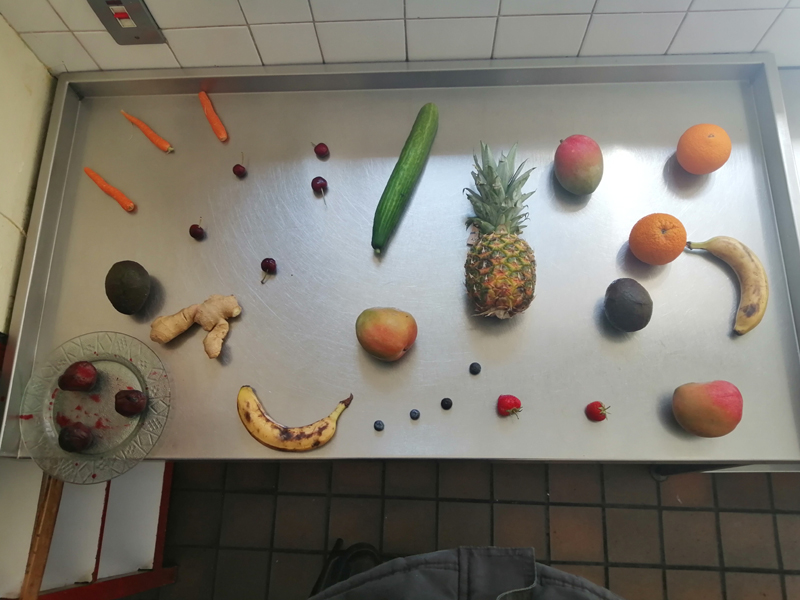avocado: (602, 274, 657, 337), (103, 254, 153, 317)
banana: (224, 378, 359, 458), (687, 222, 773, 340)
beet: (47, 359, 107, 394), (52, 420, 98, 456), (113, 383, 147, 422)
blueberry: (437, 394, 457, 423), (406, 405, 424, 432), (365, 415, 387, 434), (465, 359, 486, 377)
carrot: (106, 102, 177, 165), (81, 157, 139, 226), (189, 89, 238, 144)
cherry: (247, 250, 283, 292), (300, 132, 337, 162), (306, 172, 328, 207), (181, 222, 211, 242), (231, 160, 250, 184)
cucumber: (370, 93, 439, 273)
ginger: (147, 299, 271, 362)
mango: (345, 304, 424, 366), (671, 377, 745, 443), (549, 131, 607, 204)
orange: (672, 118, 737, 182), (623, 214, 687, 268)
pineapple: (453, 130, 546, 334)
strawberry: (579, 398, 616, 429), (494, 391, 525, 423)
